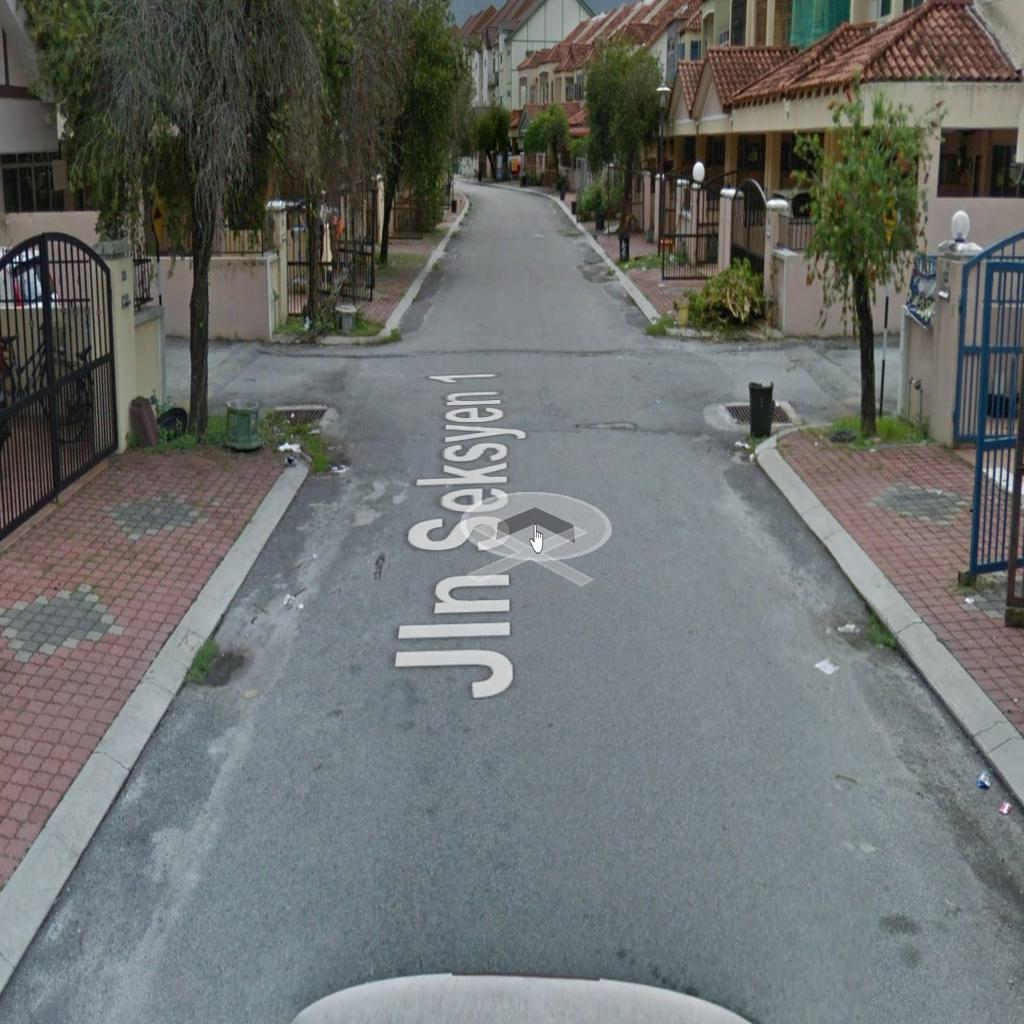Junction: (618, 300, 896, 470), (171, 301, 428, 477)
